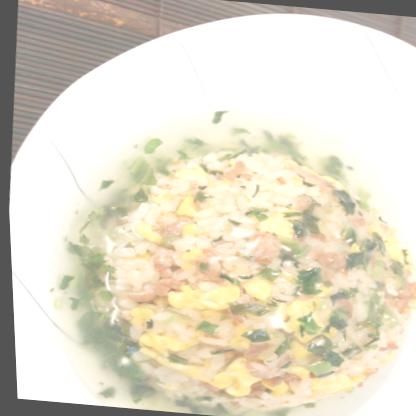fried rice: (87, 150, 415, 416)
